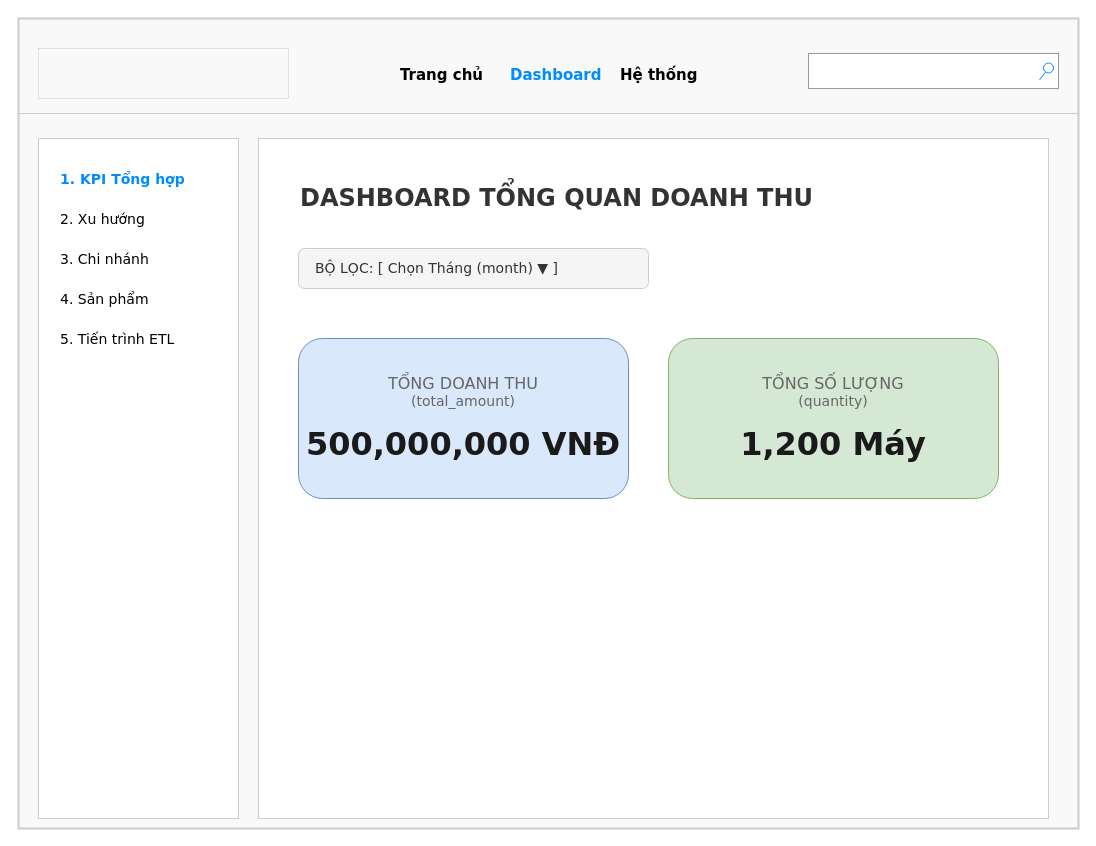
The diagram is 1096 pixels wide and 846 high, and some of its shapes have lost their labels. The shapes that lost their labels are listed below. From the top down, each one's centre as x and y in pixels, then its label:
At point (163, 73): "SMART CRM DWH".
At point (933, 70): "Tìm kiếm báo cáo...".
